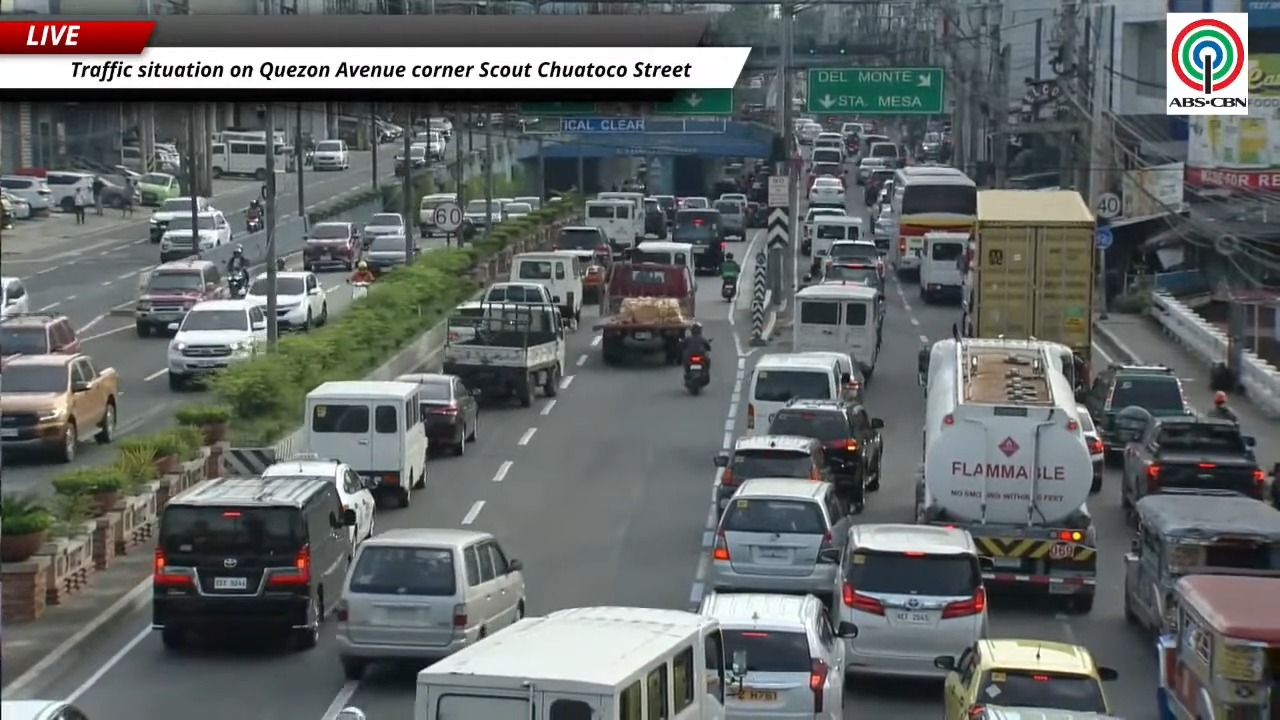bus: (413, 607, 739, 719), (887, 165, 976, 278), (209, 133, 266, 180), (210, 129, 265, 142)
car: (151, 476, 354, 650), (334, 528, 525, 680), (832, 523, 988, 677), (699, 593, 844, 719), (707, 478, 851, 600), (935, 638, 1117, 719), (767, 399, 883, 512), (0, 354, 118, 462), (1083, 364, 1194, 461), (262, 453, 375, 547), (167, 299, 266, 390), (715, 435, 829, 510), (134, 257, 228, 337), (395, 373, 478, 455), (159, 209, 233, 262), (0, 312, 80, 357), (303, 221, 363, 272), (817, 260, 884, 297), (362, 234, 420, 275), (1077, 405, 1104, 492), (801, 206, 847, 255), (44, 170, 94, 212), (829, 240, 884, 278), (0, 175, 53, 213), (149, 196, 191, 242), (0, 700, 89, 719), (482, 281, 555, 304), (418, 193, 455, 238), (137, 172, 181, 206), (101, 176, 140, 209), (0, 276, 30, 318), (463, 198, 501, 230), (393, 143, 429, 176), (311, 140, 349, 170), (361, 213, 406, 238), (808, 176, 845, 206), (245, 273, 270, 312), (857, 157, 891, 184), (0, 192, 32, 219), (809, 162, 846, 184), (503, 201, 533, 221), (513, 196, 541, 210), (679, 196, 709, 209)
motorcycle: (683, 353, 709, 395), (227, 270, 248, 298), (721, 278, 738, 302), (351, 282, 369, 300), (246, 215, 263, 232)
truck: (915, 339, 1097, 612), (962, 190, 1096, 370), (442, 303, 565, 406), (593, 262, 695, 365)
